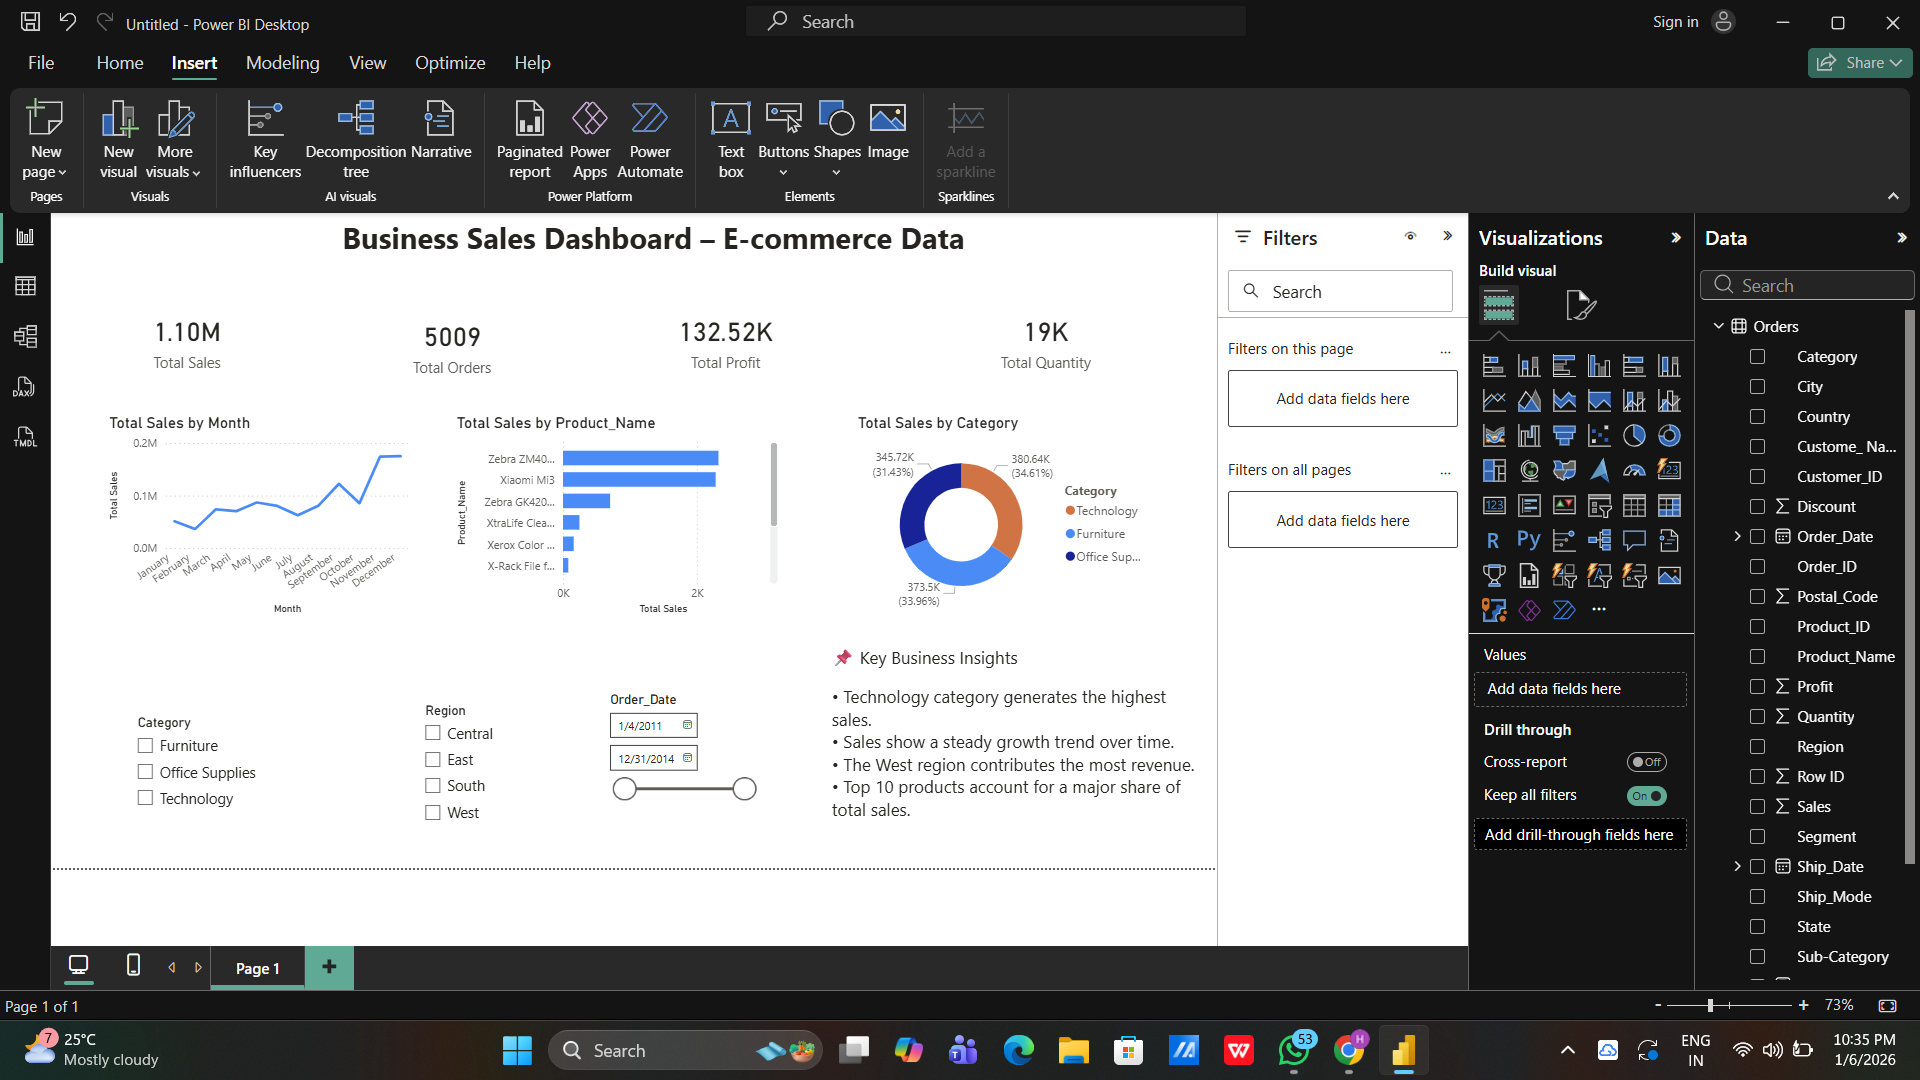

This screenshot's page, from the dashboard's own definition file:
{"tool":"powerbi","page":{"name":"Page 1","canvas":[1280,720],"ordinal":0},"visuals":[{"type":"card","fields":{"Values":["Orders.Total Sales"]},"box":[9.6,64.5,279.9,150.9],"z":0},{"type":"card","fields":{"Values":["Orders.Total Profit"]},"box":[601,64.5,279.9,150.9],"z":1000},{"type":"card","fields":{"Values":["Orders.Total Quantity"]},"box":[952.3,64.5,279.9,150.9],"z":2000},{"type":"card","fields":{"Values":["Orders.Total Orders"]},"box":[300.5,74.1,279.9,141.3],"z":3000},{"type":"lineChart","fields":{"Category":["Orders.Order_Date.Variation.Date Hierarchy.Month"],"Y":["Orders.Total Sales"]},"box":[59,219.6,338.9,226.4],"z":4000},{"type":"clusteredBarChart","fields":{"Category":["Orders.Product_Name"],"Y":["Orders.Total Sales"]},"box":[440.5,219.6,362.3,226.4],"z":4001},{"type":"donutChart","fields":{"Category":["Orders.Category"],"Y":["Orders.Total Sales"]},"box":[881,219.6,334.8,226.4],"z":4002},{"type":"slicer","fields":{"Values":["Orders.Category"]},"box":[82.3,546.1,181.1,124.9],"z":4003},{"type":"slicer","fields":{"Values":["Orders.Region"]},"box":[397.9,532.4,181.1,155.1],"z":4004},{"type":"slicer","fields":{"Values":["Orders.Order_Date"]},"box":[601,520.1,181.1,150.9],"z":4005},{"type":"textbox","box":[852.1,470.7,411.7,216.8],"z":4006},{"type":"textbox","box":[59,0,1204.8,64.5],"z":4007}]}

Visuals, with their boxes on the page's 1280x720 design canvas (x1, y1, x2, y2). These are canvas units, not pixel positions in the 1920x1080 screenshot, which may show the page scaled, cropped or inside an application window:
card - Orders.Total Sales: BBox(10, 64, 290, 215)
card - Orders.Total Profit: BBox(601, 64, 881, 215)
card - Orders.Total Quantity: BBox(952, 64, 1232, 215)
card - Orders.Total Orders: BBox(300, 74, 580, 215)
lineChart - Orders.Order_Date.Variation.Date Hierarchy.Month x Orders.Total Sales: BBox(59, 220, 398, 446)
clusteredBarChart - Orders.Product_Name x Orders.Total Sales: BBox(440, 220, 803, 446)
donutChart - Orders.Category x Orders.Total Sales: BBox(881, 220, 1216, 446)
slicer - Orders.Category: BBox(82, 546, 263, 671)
slicer - Orders.Region: BBox(398, 532, 579, 688)
slicer - Orders.Order_Date: BBox(601, 520, 782, 671)
textbox: BBox(852, 471, 1264, 688)
textbox: BBox(59, 0, 1264, 64)
